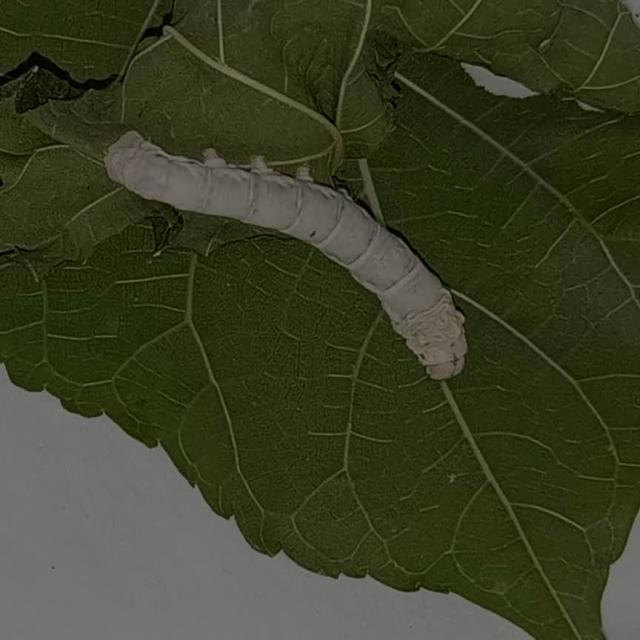Healthy: (78, 85, 498, 417)
